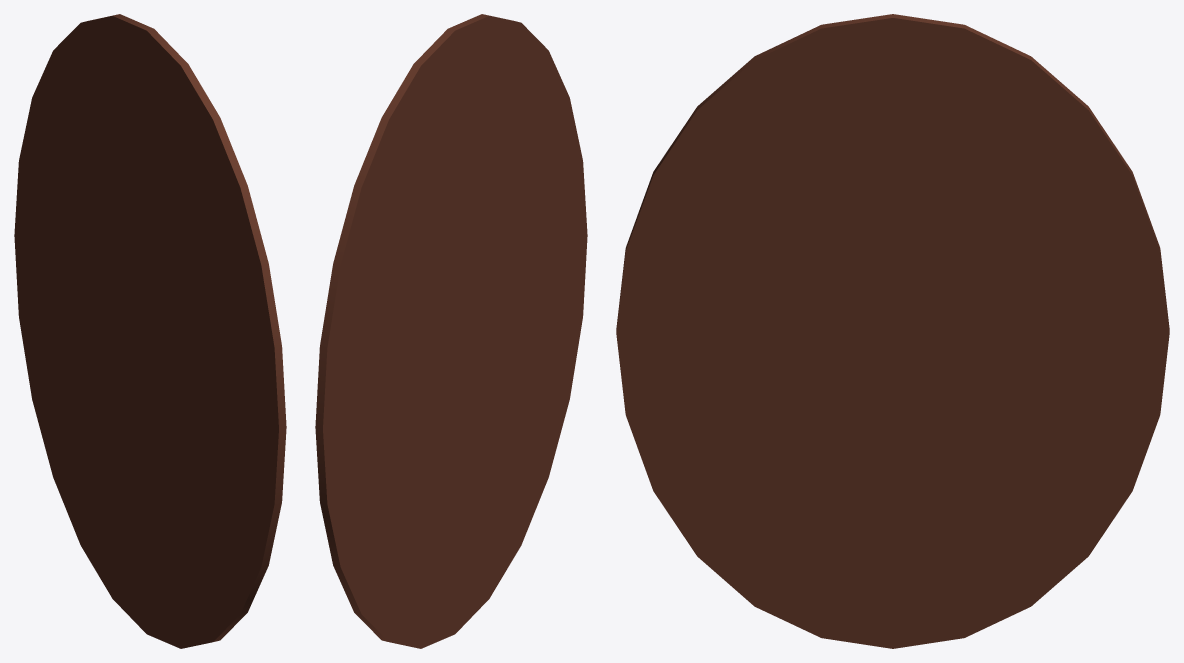
The model's file is original-32.obj.
The picture shows the model from 3 angles, left to right: view 1: azimuth 30°, elevation 25°; view 2: azimuth 150°, elevation 25°; view 3: azimuth 270°, elevation 25°; orthographic projection. The views are drawn at different scales.
Visible parts, largest first — view 1: Component_11_5/Component_11/mesh3/mesh3-geometry#mesh3-geometry; view 2: Component_11_5/Component_11/mesh3/mesh3-geometry#mesh3-geometry; view 3: Component_11_5/Component_11/mesh3/mesh3-geometry#mesh3-geometry.
Part boxes in pixels (x1,y1,x2,y2): Component_11_5/Component_11/mesh3/mesh3-geometry#mesh3-geometry: (14, 14, 286, 648); Component_11_5/Component_11/mesh3/mesh3-geometry#mesh3-geometry: (315, 14, 587, 648); Component_11_5/Component_11/mesh3/mesh3-geometry#mesh3-geometry: (616, 14, 1169, 648).
Size of the model in its own units: 5.5e-05 by 0.00423 by 0.00336.
